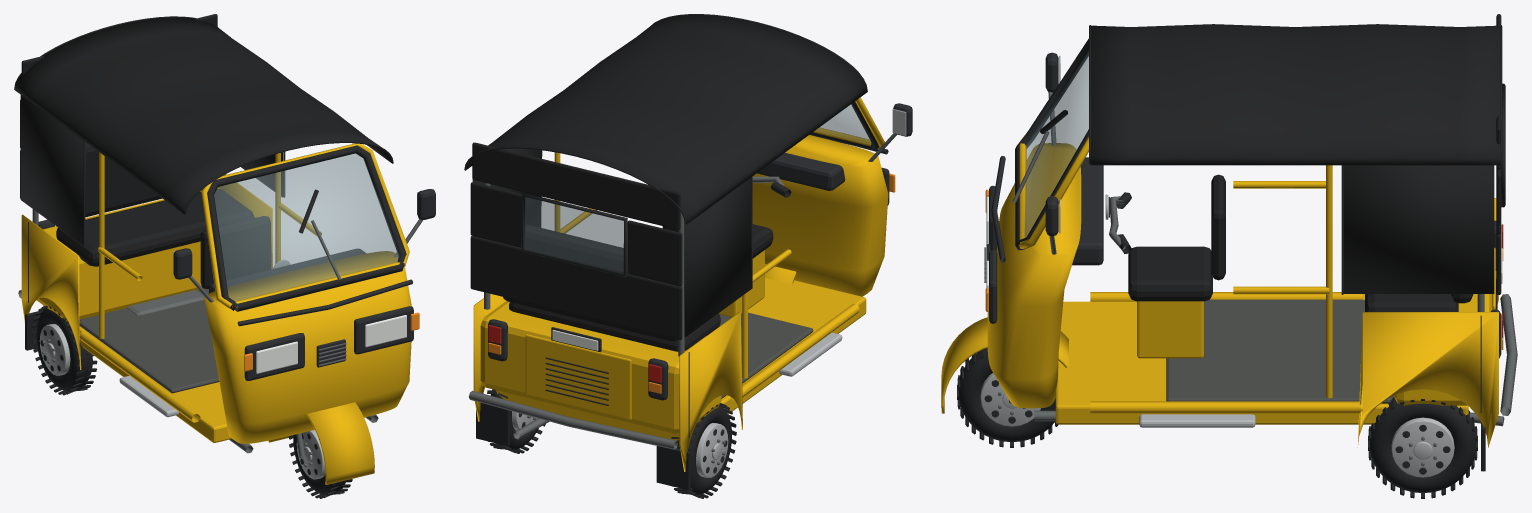
Rendered from keke_lod0.glb.
3 renders of one model, left to right at view 1: azimuth 30°, elevation 25°; view 2: azimuth 150°, elevation 25°; view 3: azimuth 270°, elevation 25°, orthographic. The views are drawn at different scales.
Parts seen in each view (by area): view 1: Body, Fork, Wheel_Rear_Left, Wheel_Front; view 2: Body, Wheel_Rear_Left, Wheel_Rear_Right; view 3: Body, Wheel_Rear_Right, Wheel_Front, Fork.
Part boxes in pixels (x1,y1,x2,y2): Body: (14, 14, 435, 453); Fork: (268, 402, 374, 484); Wheel_Rear_Left: (31, 305, 97, 395); Wheel_Front: (288, 430, 352, 498); Body: (464, 14, 912, 490); Wheel_Rear_Left: (671, 403, 736, 498); Wheel_Rear_Right: (487, 389, 545, 453); Body: (984, 14, 1517, 471); Wheel_Rear_Right: (1368, 397, 1477, 498); Wheel_Front: (957, 348, 1058, 447); Fork: (941, 317, 1068, 413).
Size of the model in its own units: 1.62 by 1.92 by 2.58.
